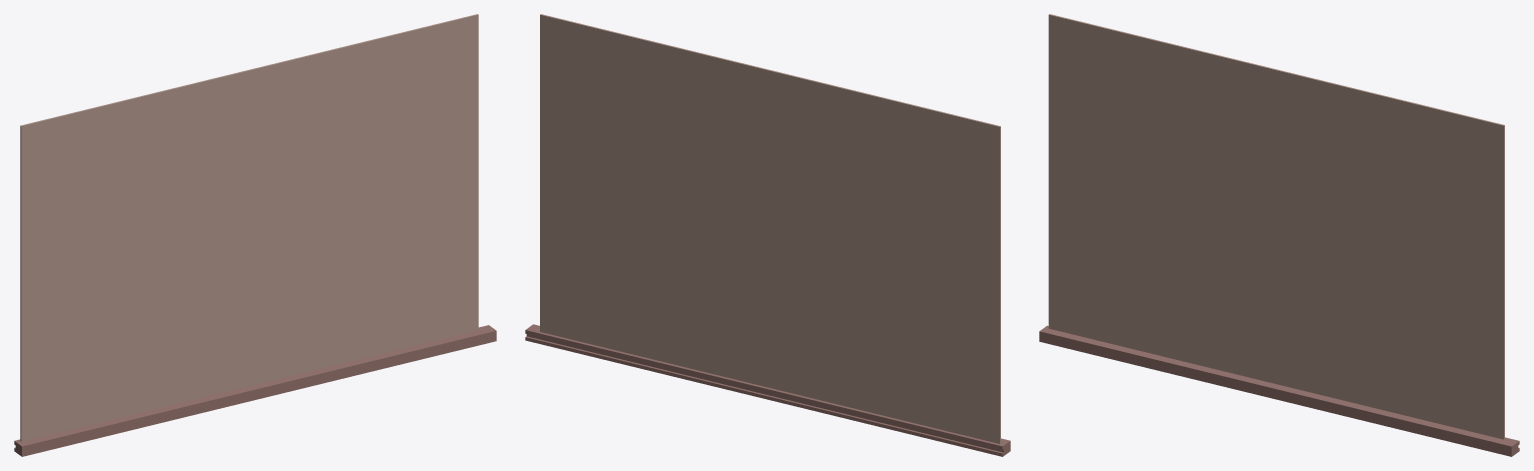
Rendered from Environment_PlainWall_Tan.glb.
The picture shows the model from 3 angles, left to right: view 1: azimuth 30°, elevation 25°; view 2: azimuth 150°, elevation 25°; view 3: azimuth 330°, elevation 25°; orthographic projection.
Parts seen in each view (by area): view 1: Wall F.005, Cube.014; view 2: Wall F.005, Cube.014; view 3: Wall F.005, Cube.014.
Boxes of the visible parts, x1,y1,x2,y2 form: Wall F.005: [20, 14, 478, 441]; Cube.014: [14, 325, 496, 456]; Wall F.005: [540, 14, 1000, 443]; Cube.014: [525, 324, 1010, 456]; Wall F.005: [1048, 14, 1504, 439]; Cube.014: [1039, 325, 1519, 456].
Size of the model in its own units: 32.4 by 21.26 by 0.9248.
